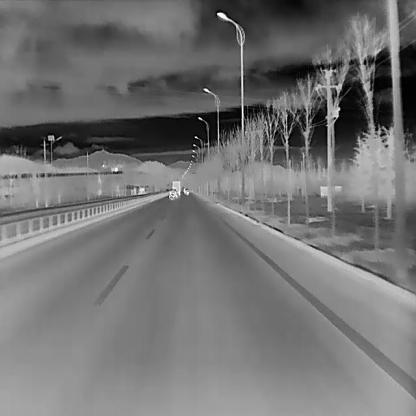car: (168, 187, 178, 198), (183, 188, 189, 195)
truck: (171, 180, 181, 195)
